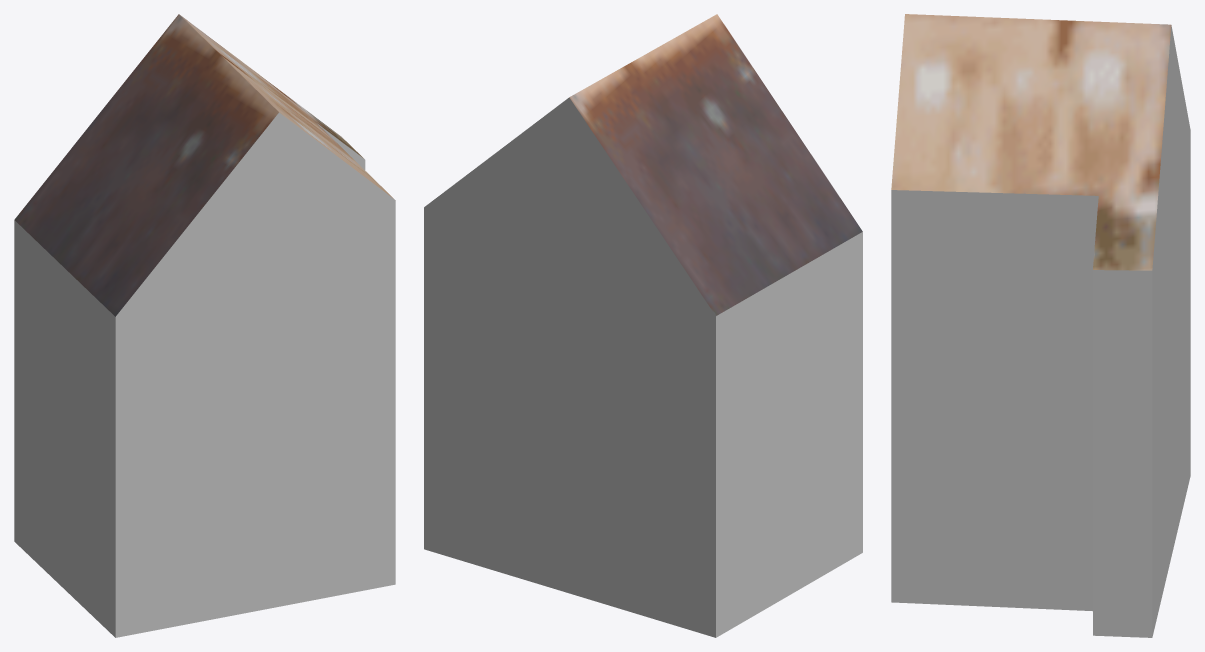
Rendered from DEBW_0010007TxgL.gltf.
3 views of the same model, side by side, from view 1: azimuth 30°, elevation 25°; view 2: azimuth 150°, elevation 25°; view 3: azimuth 270°, elevation 25° (orthographic). The views are drawn at different scales.
Parts seen in each view (by area): view 1: Z_UP; view 2: Z_UP; view 3: Z_UP.
Boxes of the visible parts, <box> form: Z_UP: <box>14,14,395,637</box>; Z_UP: <box>424,14,862,637</box>; Z_UP: <box>891,14,1190,637</box>.
Size of the model in its own units: 16.14 by 23.01 by 11.72.
Materials: 2 (1 with a texture image).
